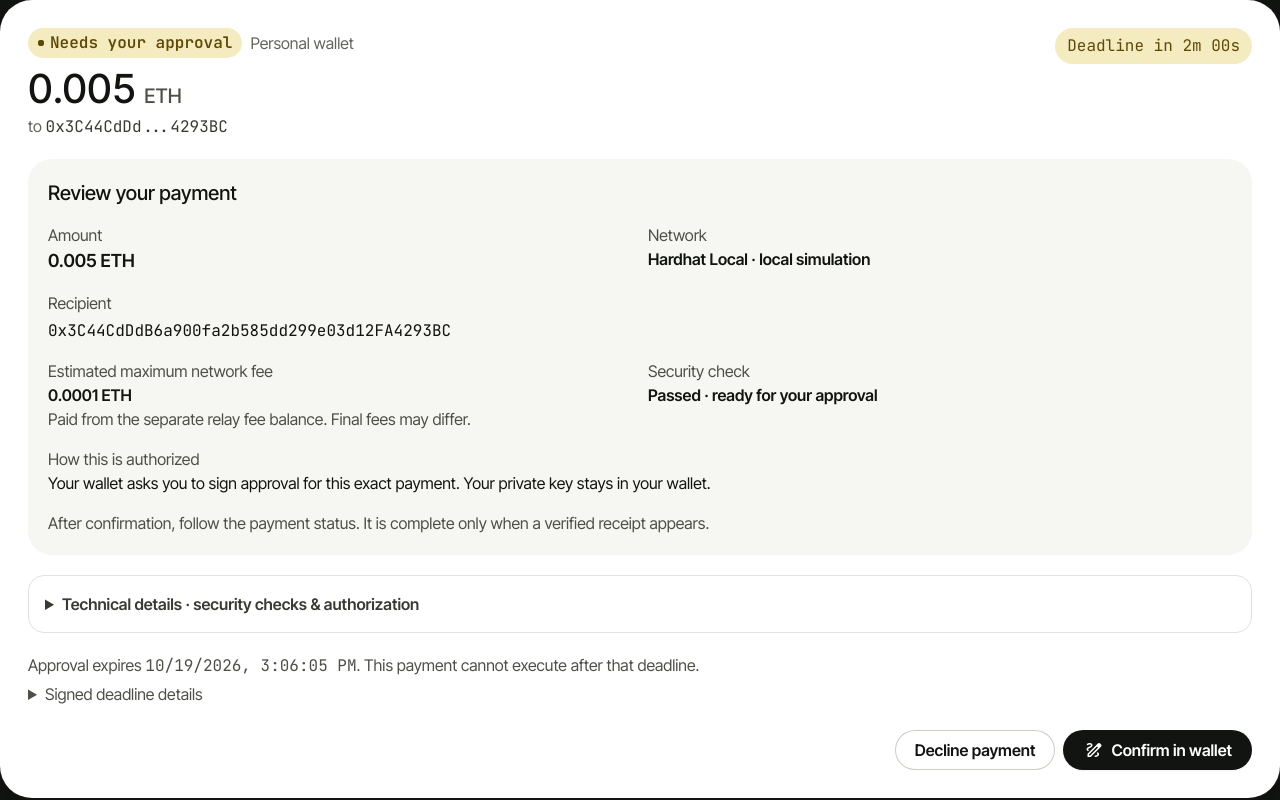
Test case: approval flow › does not sign when the wallet is on the wrong network
Step 1. Click the button "Confirm in wallet" → (1158, 750), box 1063,730 -> 1252,770
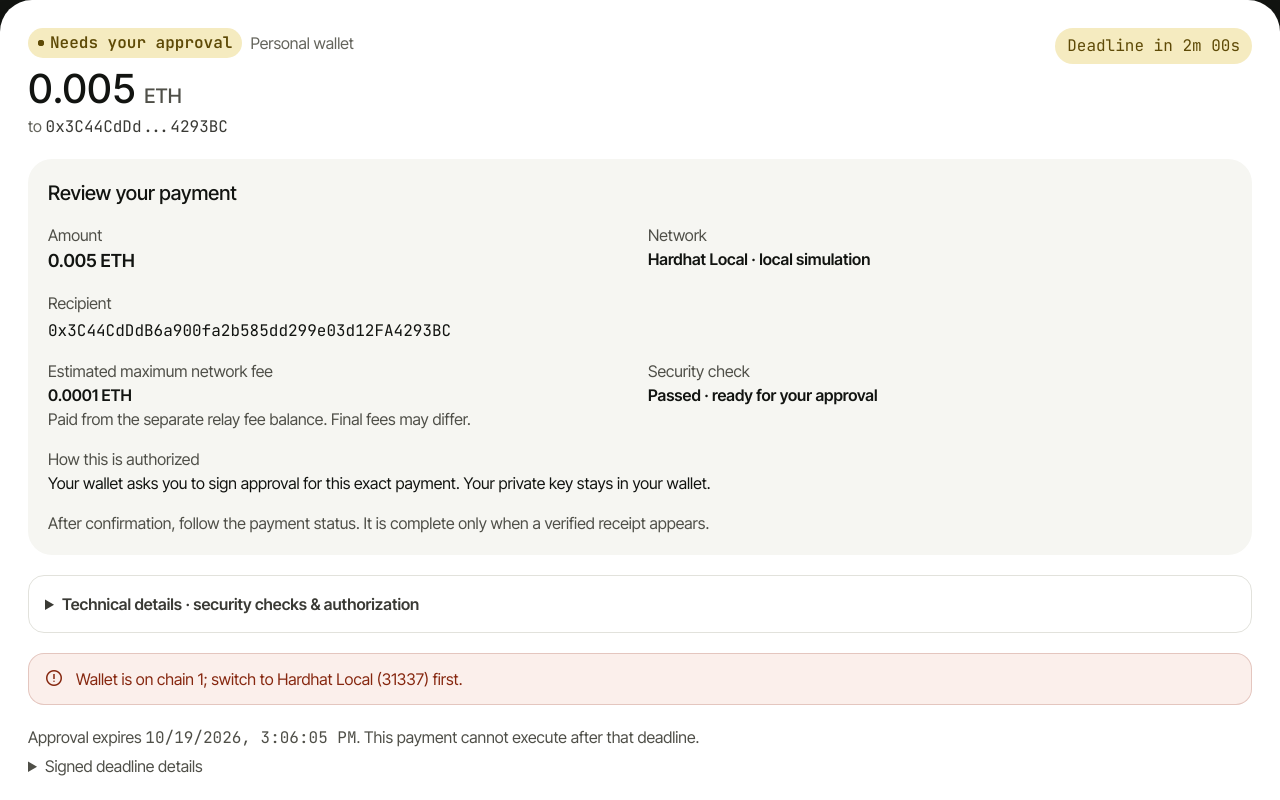
Expected: the text "Wallet is on chain 1; switch to Hardhat Local (31337) first." is shown, 76,667 -> 462,691
